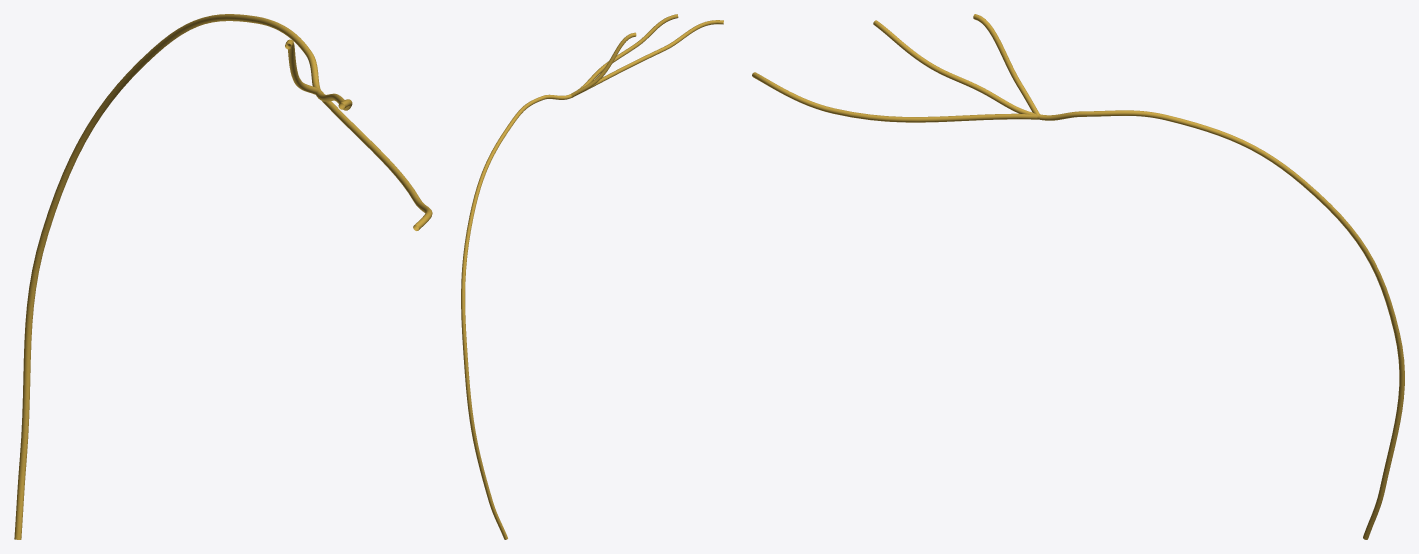
3 renders of one model, left to right at view 1: azimuth 30°, elevation 25°; view 2: azimuth 150°, elevation 25°; view 3: azimuth 270°, elevation 25°, orthographic. The views are drawn at different scales.
Visible parts, largest first — view 1: 左侧阴部神经; view 2: 左侧阴部神经; view 3: 左侧阴部神经.
Boxes of the visible parts, left/top/right/bottom form: 左侧阴部神经: left=14, top=14, right=432, bottom=539; 左侧阴部神经: left=461, top=14, right=723, bottom=539; 左侧阴部神经: left=752, top=14, right=1404, bottom=539.
Bounding box in the file's own units: 0.03 × 0.1548 × 0.1712.
